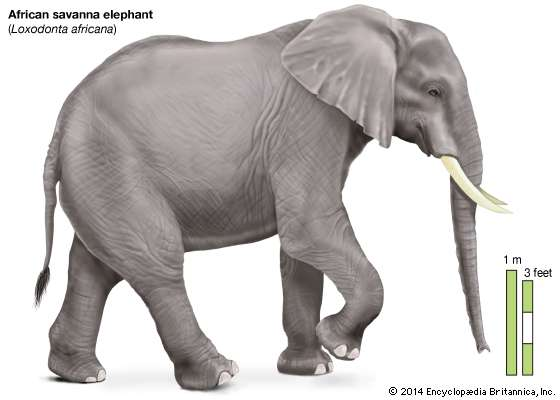elephant: (31, 2, 506, 380)
